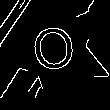O_S: (32, 22, 83, 81)
